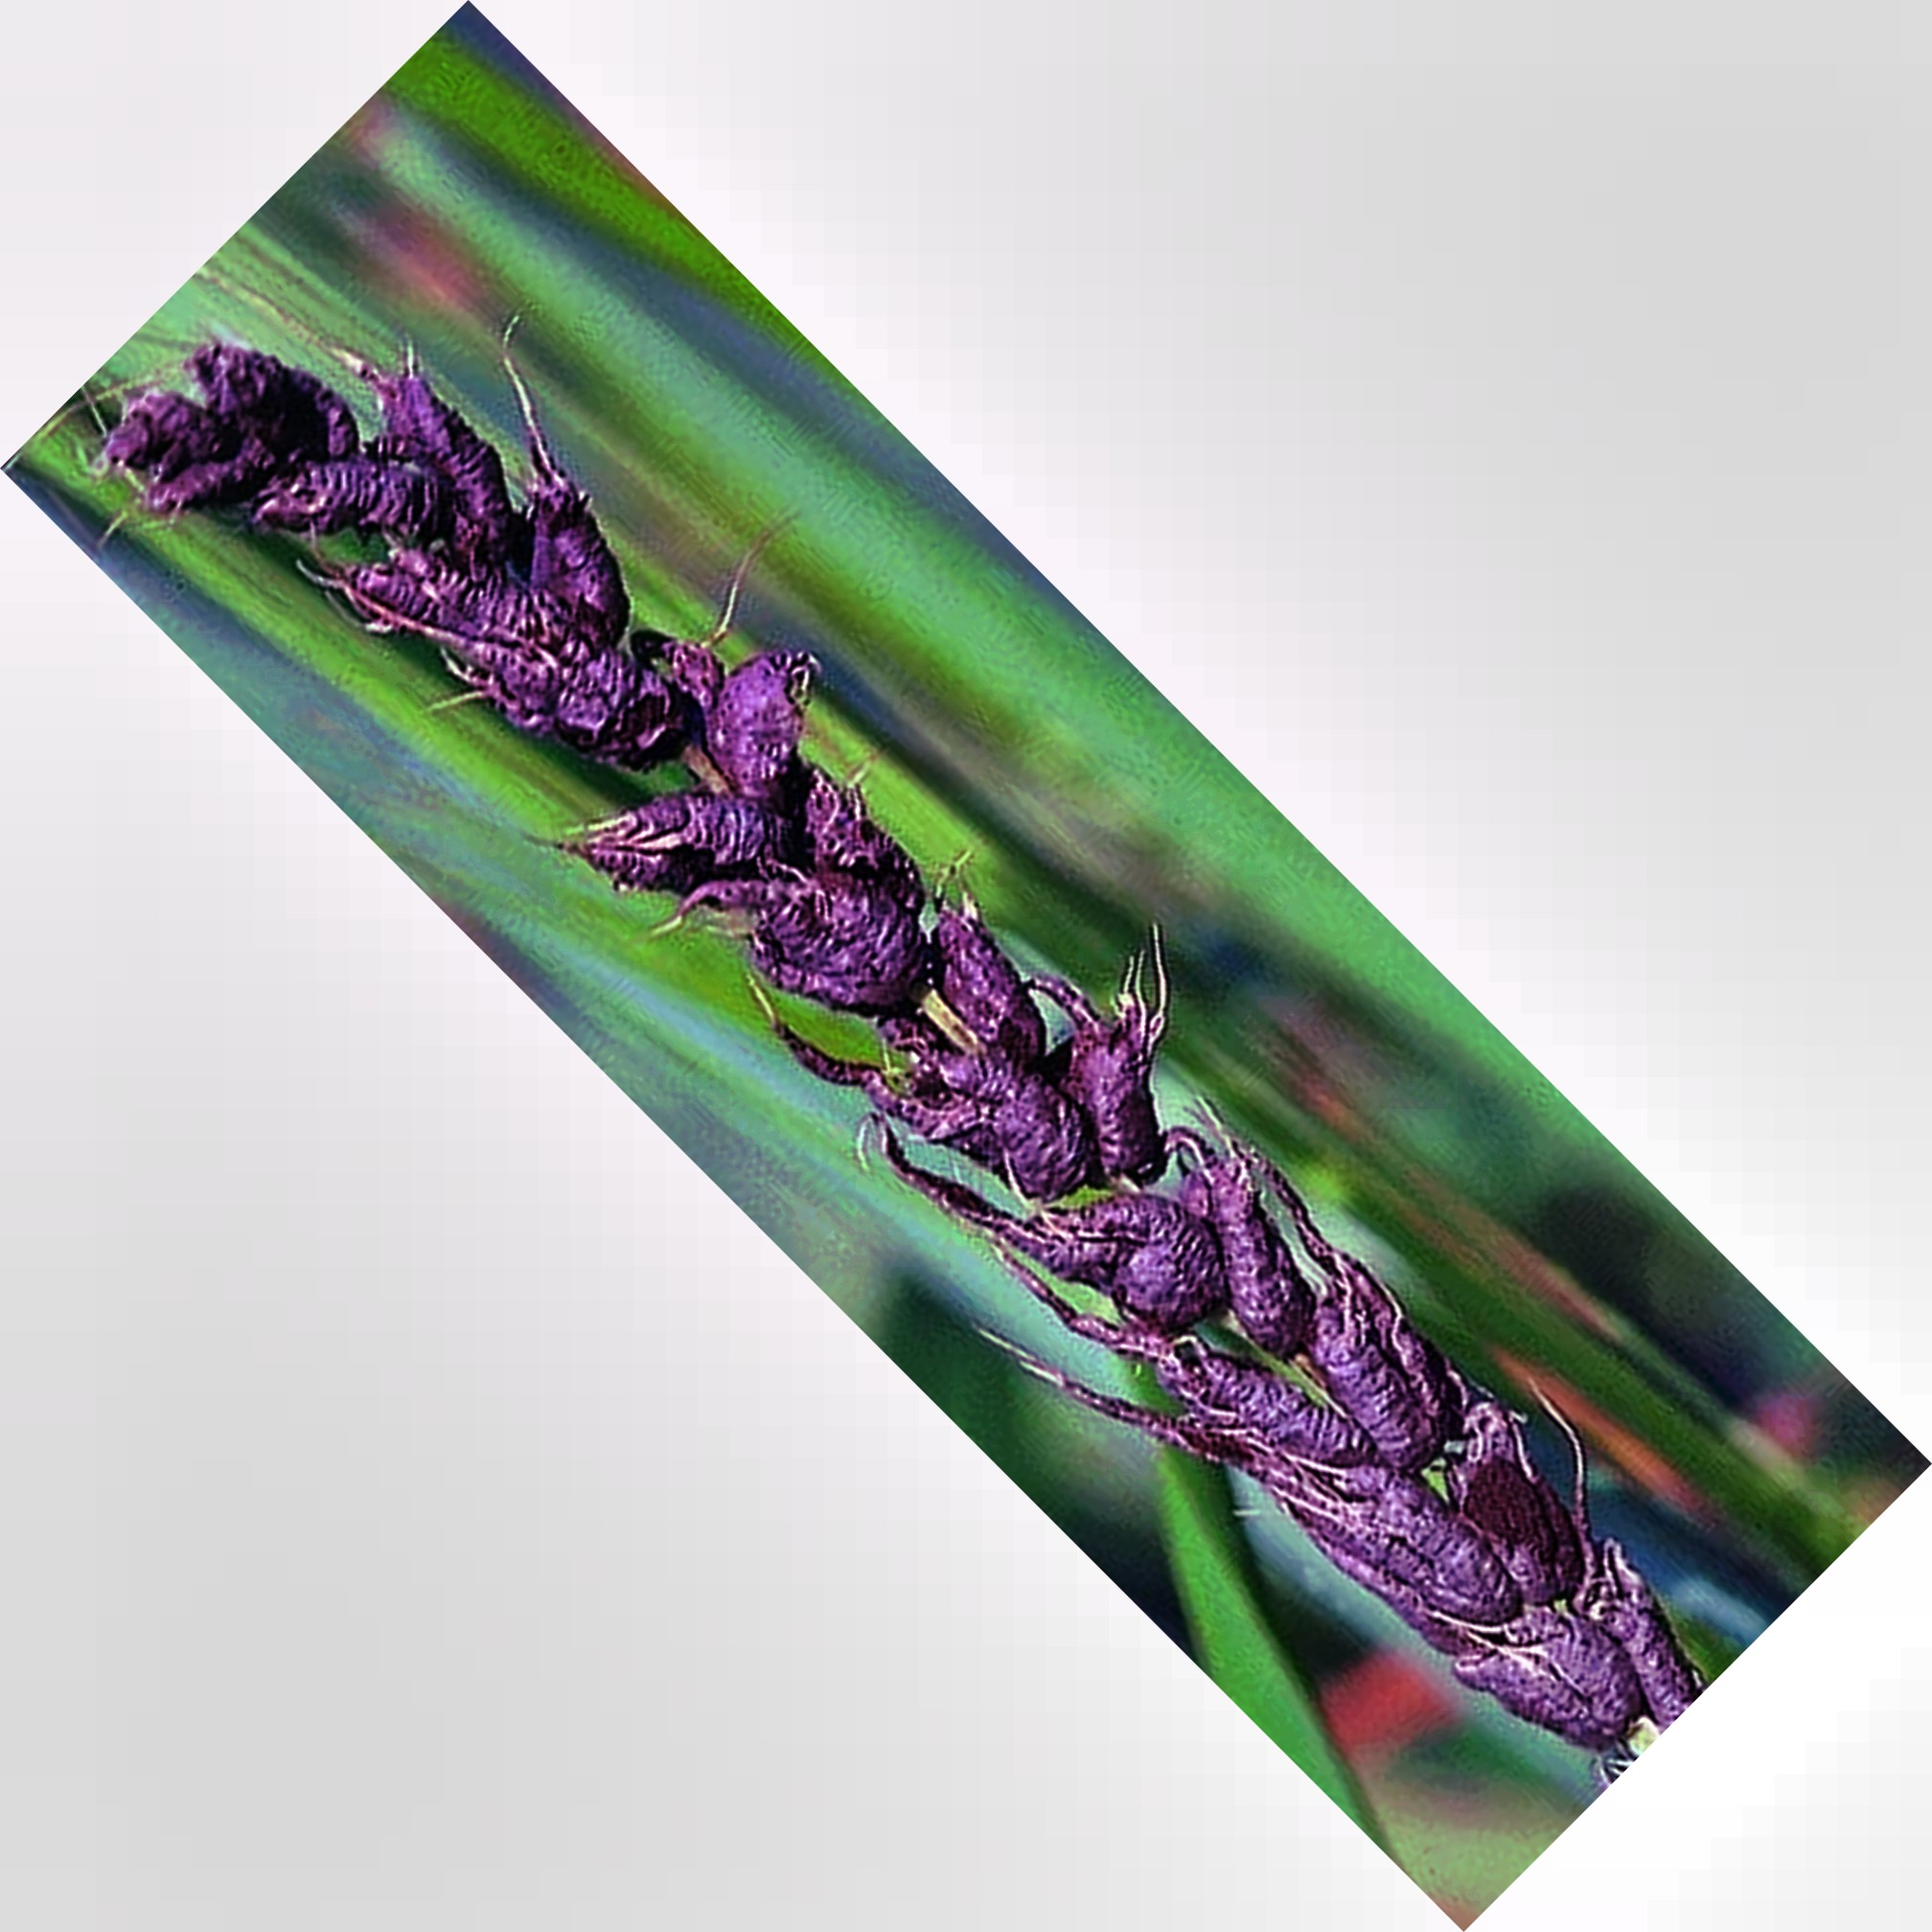Wheat Loose Smut: (157, 356, 1675, 1704)
